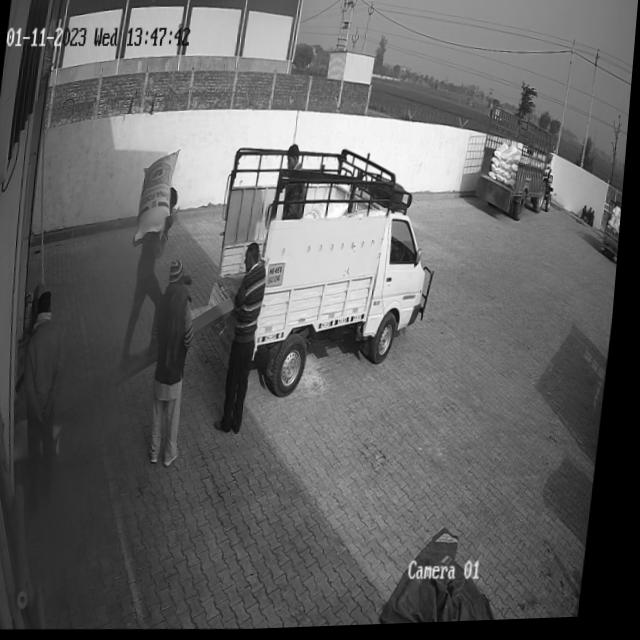sack: (136, 149, 183, 241)
